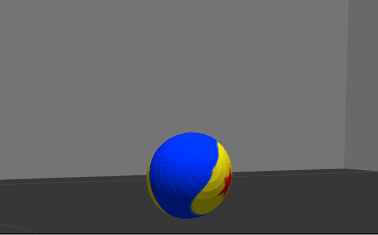toy story ball: (147, 132, 232, 218)
